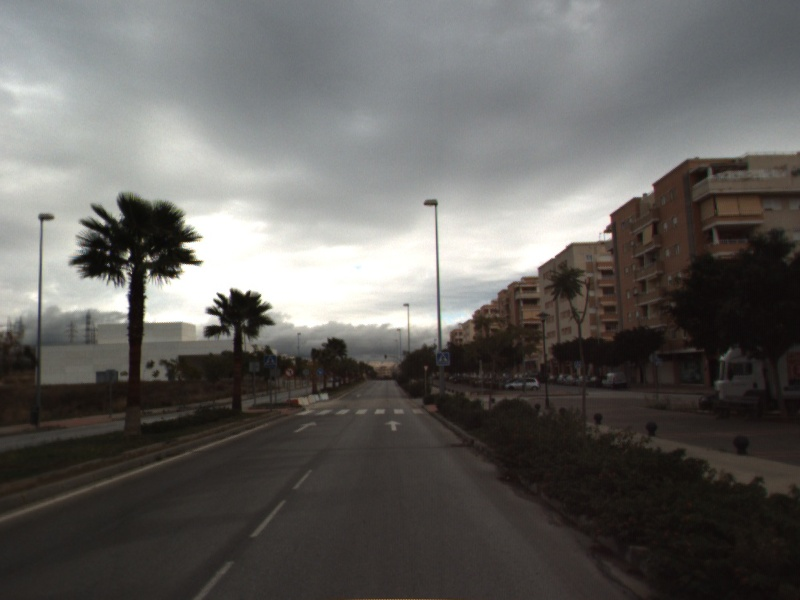STRAIGHT: (292, 419, 319, 434), (383, 418, 402, 432)
